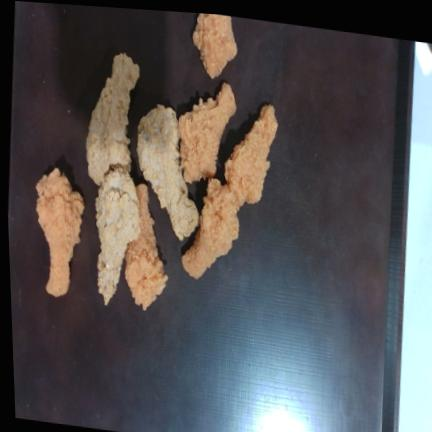chicken: (136, 104, 199, 240), (86, 53, 139, 185), (95, 167, 140, 305), (36, 168, 84, 296), (178, 82, 236, 182), (182, 178, 239, 278), (125, 183, 168, 310), (225, 105, 277, 209), (192, 13, 237, 77)
